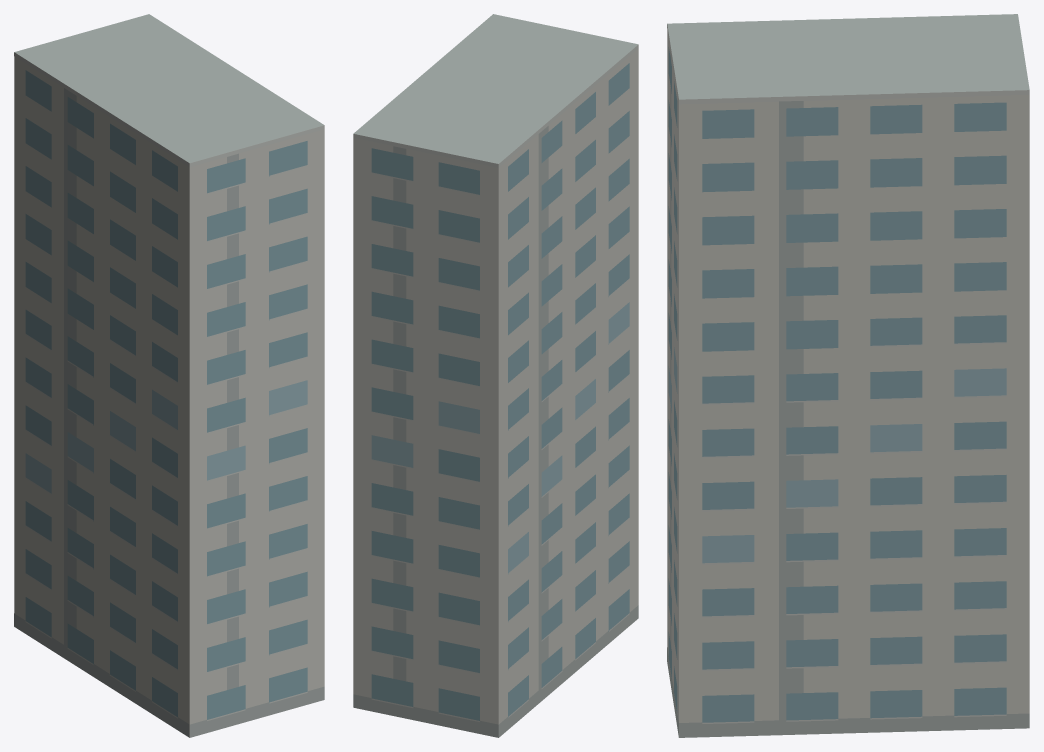
The model's file is residential-67807029-044a-4733-a075-48fa1bc276f1.glb.
3 views of the same model, side by side, from view 1: azimuth 30°, elevation 25°; view 2: azimuth 150°, elevation 25°; view 3: azimuth 270°, elevation 25° (orthographic). The views are drawn at different scales.
Visible parts, largest first — view 1: residential-67807029-044a-4733-a075-48fa1bc276f1.tmp; view 2: residential-67807029-044a-4733-a075-48fa1bc276f1.tmp; view 3: residential-67807029-044a-4733-a075-48fa1bc276f1.tmp.
Boxes of the visible parts, <box> form: residential-67807029-044a-4733-a075-48fa1bc276f1.tmp: <box>14,14,324,737</box>; residential-67807029-044a-4733-a075-48fa1bc276f1.tmp: <box>353,14,638,737</box>; residential-67807029-044a-4733-a075-48fa1bc276f1.tmp: <box>667,14,1029,737</box>.
Size of the model in its own units: 9.79 by 34 by 17.51.
